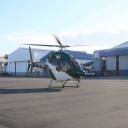helicopter: (26, 37, 86, 91)
